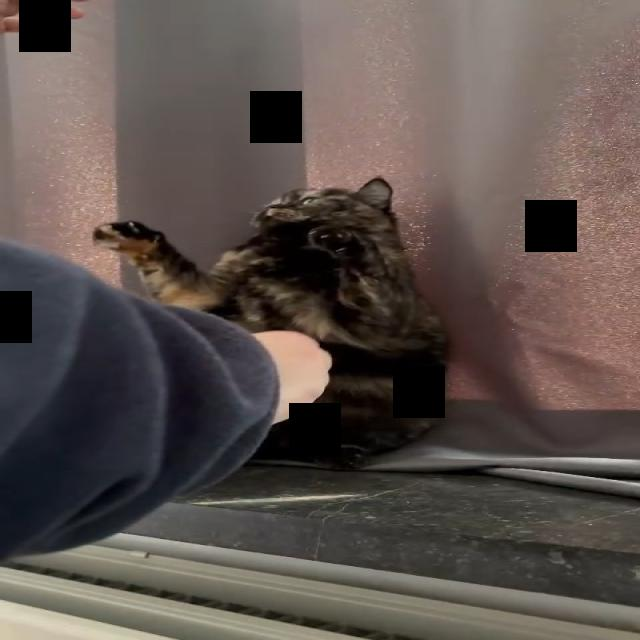authorized: (91, 175, 452, 470)
